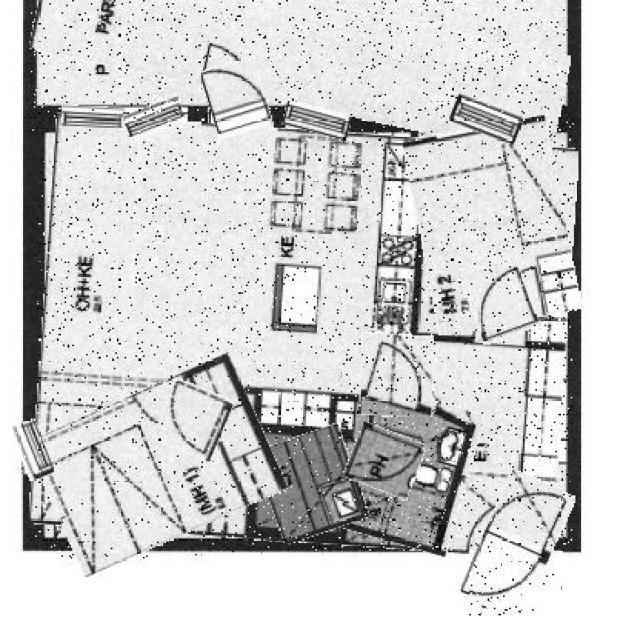door: (469, 474, 563, 618), (360, 334, 432, 417), (466, 258, 534, 342), (158, 383, 230, 457), (205, 58, 269, 140), (348, 428, 422, 495)
window: (449, 97, 522, 140), (126, 100, 188, 138), (283, 104, 349, 136), (14, 420, 49, 480), (62, 106, 123, 126)
zone: (37, 122, 572, 550), (30, 0, 568, 131), (35, 372, 278, 558), (411, 122, 574, 330), (348, 391, 477, 551), (262, 429, 363, 540)
